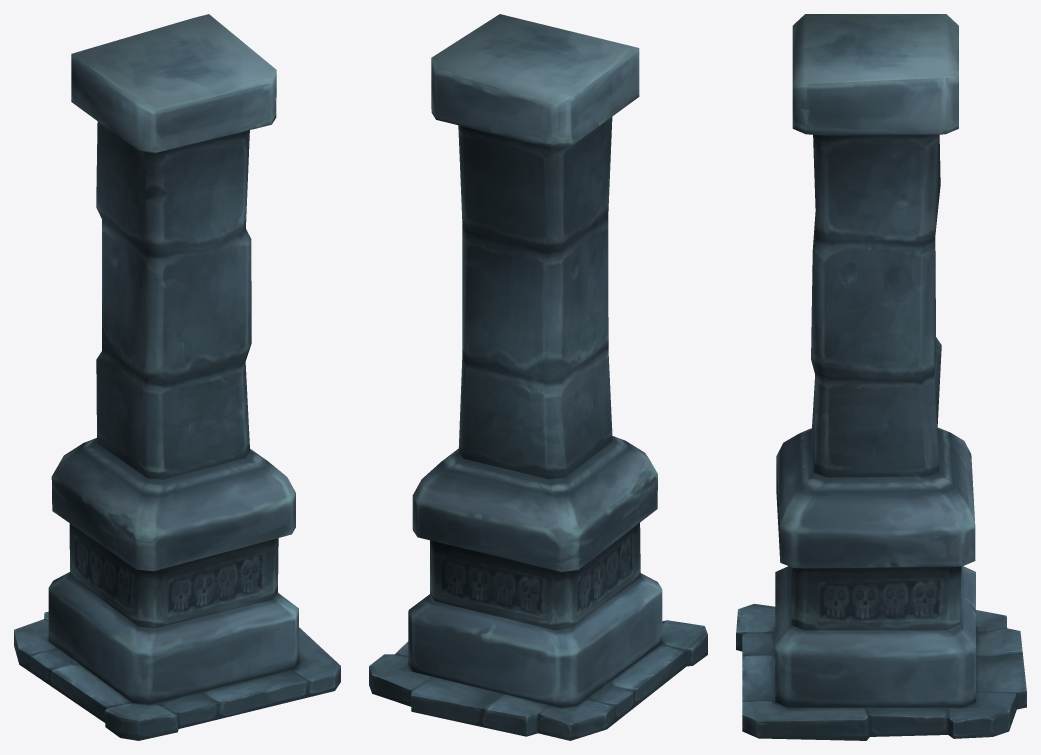
File: PILLAR.gltf
The picture shows the model from 3 angles, left to right: view 1: azimuth 30°, elevation 25°; view 2: azimuth 150°, elevation 25°; view 3: azimuth 270°, elevation 25°; orthographic projection. The views are drawn at different scales.
Parts seen in each view (by area): view 1: dungoen_pillar; view 2: dungoen_pillar; view 3: dungoen_pillar.
Part boxes in pixels (left/top/right/bottom): dungoen_pillar: left=14, top=14, right=340, bottom=740; dungoen_pillar: left=369, top=14, right=707, bottom=740; dungoen_pillar: left=736, top=14, right=1026, bottom=740.
Size of the model in its own units: 80.84 by 207 by 85.35.
Materials: 1 (1 with a texture image).
